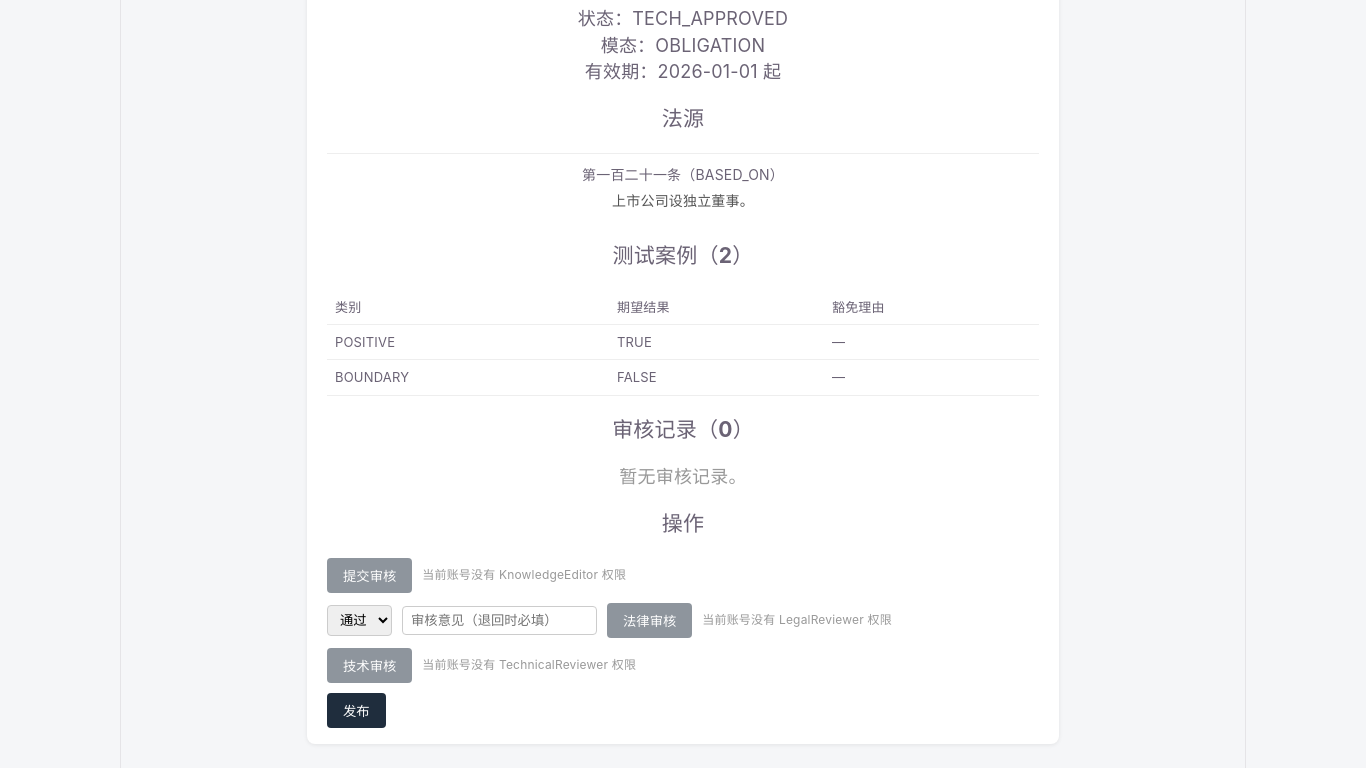
RuleDetailView › publishes a TECH_APPROVED version and reloads the new status
(page scrolled)
Click the button "发布" at (356,710), box [327,693,386,728]
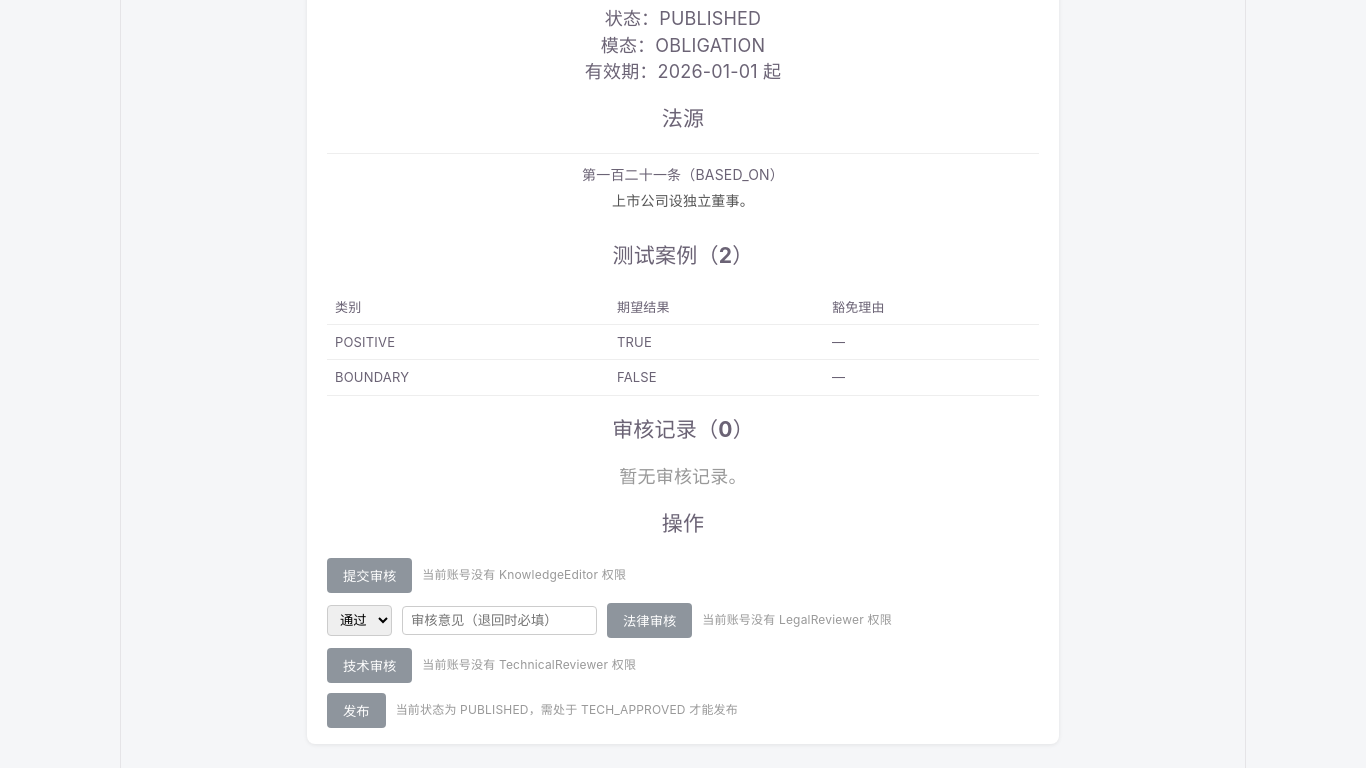
Check: the text "状态：PUBLISHED" is shown, box [605,8,761,29]
